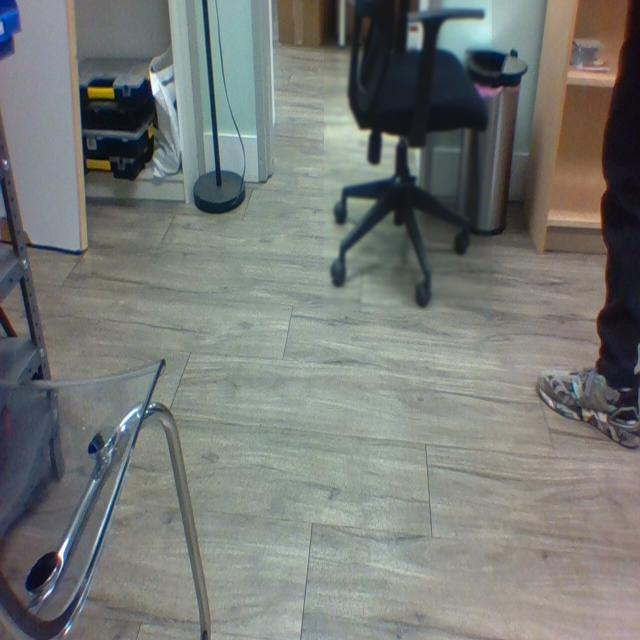black-chair: (324, 0, 493, 312)
